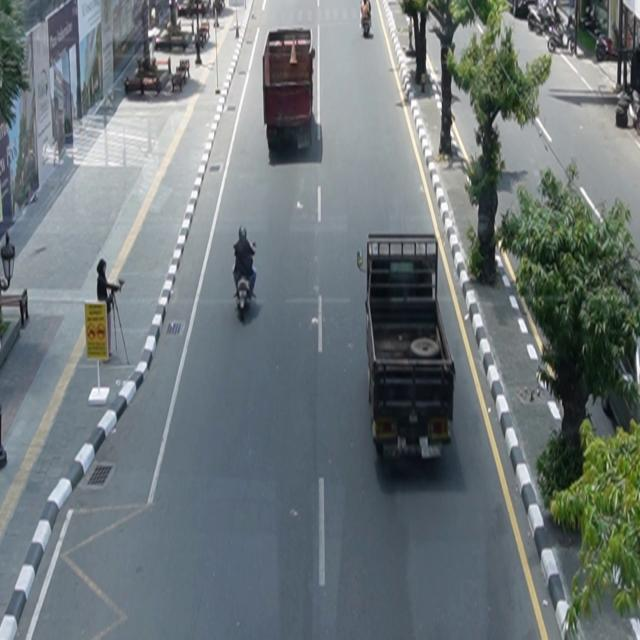truck: (359, 233, 457, 469), (263, 28, 315, 153)
